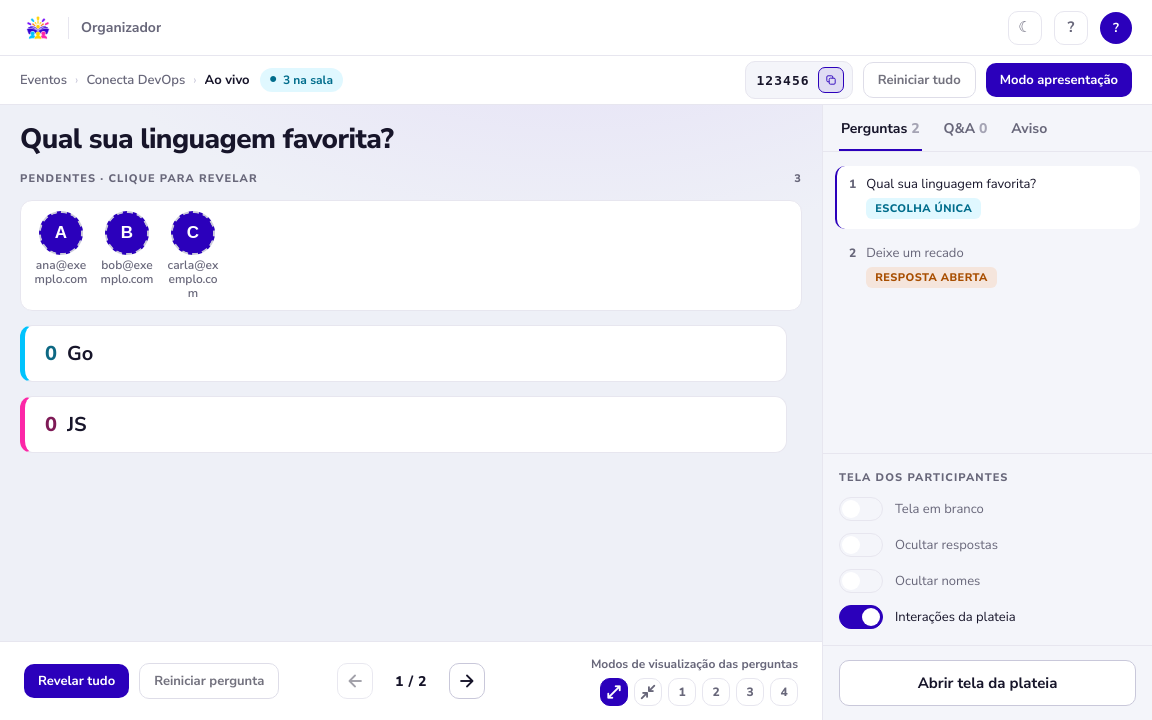
Test: Preview da apresentação › navega para a próxima pergunta, de resposta aberta
The image size is (1152, 720).
Expected: the heading "Qual sua linguagem favorita?" is shown, [20,120,393,158]
What coordinates should you click on to do the following:
click the button named "Próxima pergunta"
I would click on:
 (467, 681)
Its box is [449,663,485,699].
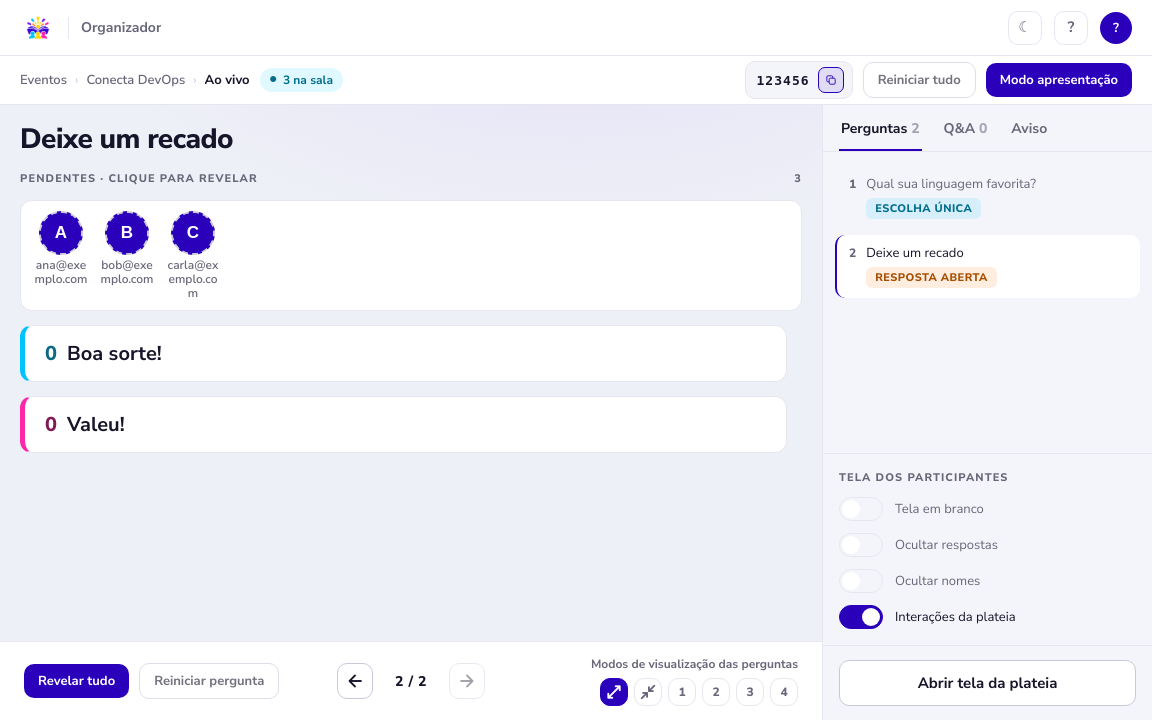
Expected: the text "0" next to "Boa sorte!" is shown, [45,340,57,367]
Now the heading "Deixe um recado" is shown, box [20,120,233,158]
Now the text "2 / 2" is shown, box [395,672,427,690]
What coordinates should you click on to do the following:
click the button named "Revelar resposta de ana@exemplo.com"
I would click on:
 (61, 233)
Its box is [39,211,83,255].
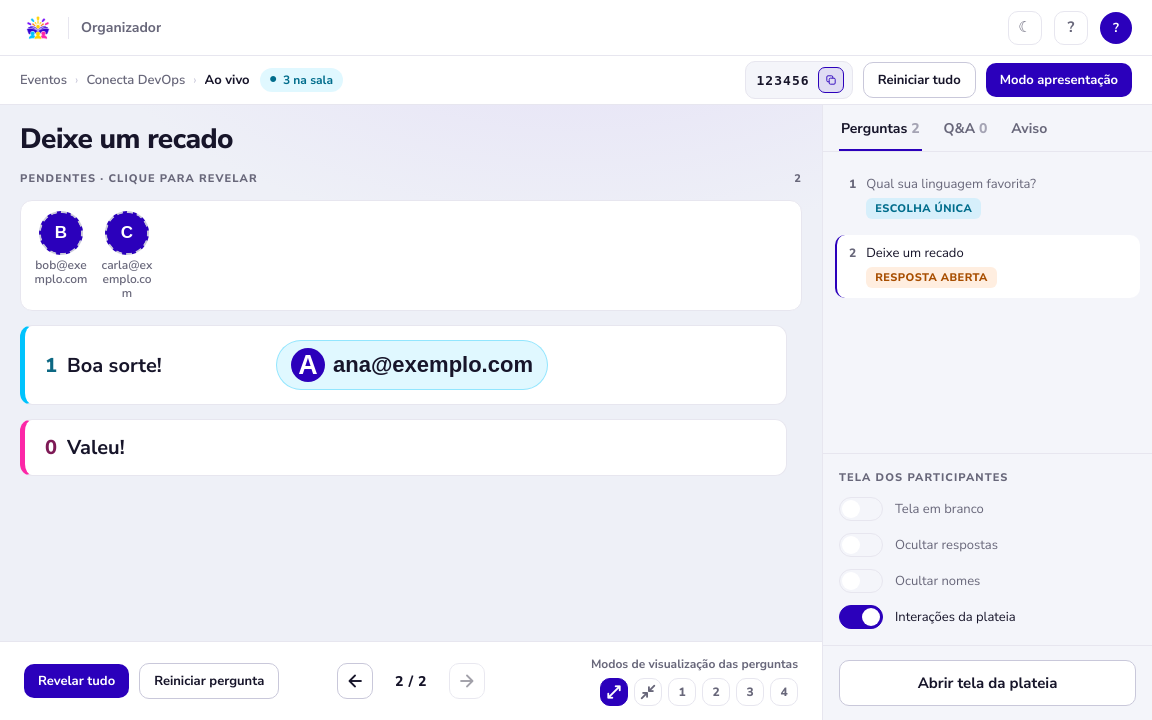
Expected: the button with aria-label "Desrevelar resposta de ana@exemplo.com" is shown, [276,340,548,390]
Now the text "1" next to "Boa sorte!" is shown, box [45,352,57,378]
